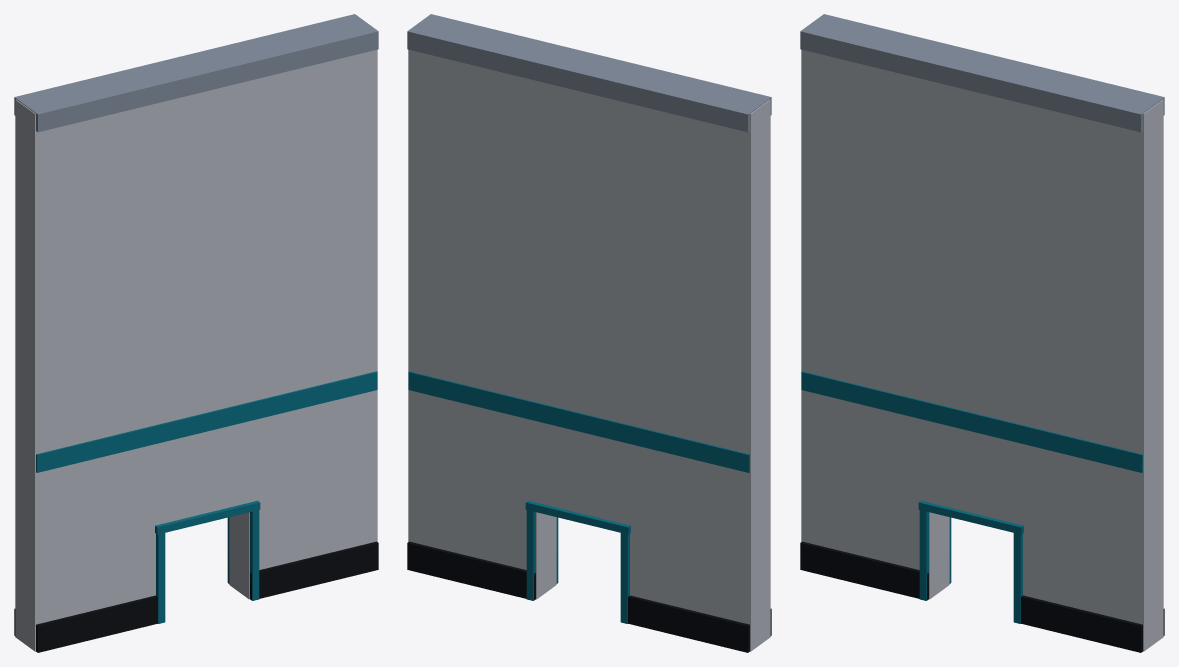
The model's file is SM_Wall_RatHole_2x3.glb.
The picture shows the model from 3 angles, left to right: view 1: azimuth 30°, elevation 25°; view 2: azimuth 150°, elevation 25°; view 3: azimuth 330°, elevation 25°; orthographic projection.
Parts seen in each view (by area): view 1: SM_Wall_RatHole_2x3-col; view 2: SM_Wall_RatHole_2x3-col; view 3: SM_Wall_RatHole_2x3-col.
Part boxes in pixels (x1,y1,x2,y2): SM_Wall_RatHole_2x3-col: (14,14,378,652); SM_Wall_RatHole_2x3-col: (407,14,771,652); SM_Wall_RatHole_2x3-col: (800,14,1164,652).
Size of the model in its own units: 2 by 3 by 0.25.
